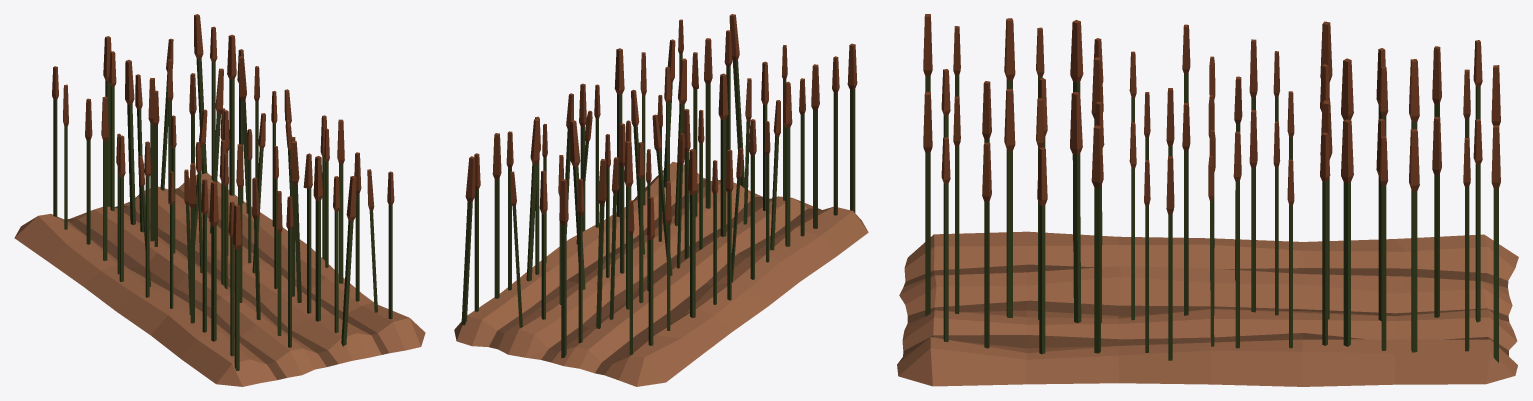
File: Field_Wheat_S.fbx
The picture shows the model from 3 angles, left to right: view 1: azimuth 30°, elevation 25°; view 2: azimuth 150°, elevation 25°; view 3: azimuth 270°, elevation 25°; orthographic projection. The views are drawn at different scales.
Parts seen in each view (by area): view 1: Field_S; view 2: Field_S; view 3: Field_S.
Boxes of the visible parts, box(x1,y1,x2,y2) form: Field_S: box(14, 14, 425, 386); Field_S: box(454, 14, 868, 386); Field_S: box(897, 14, 1518, 386).
Bounding box in the file's own units: 3.54 × 2.83 × 6.51.
